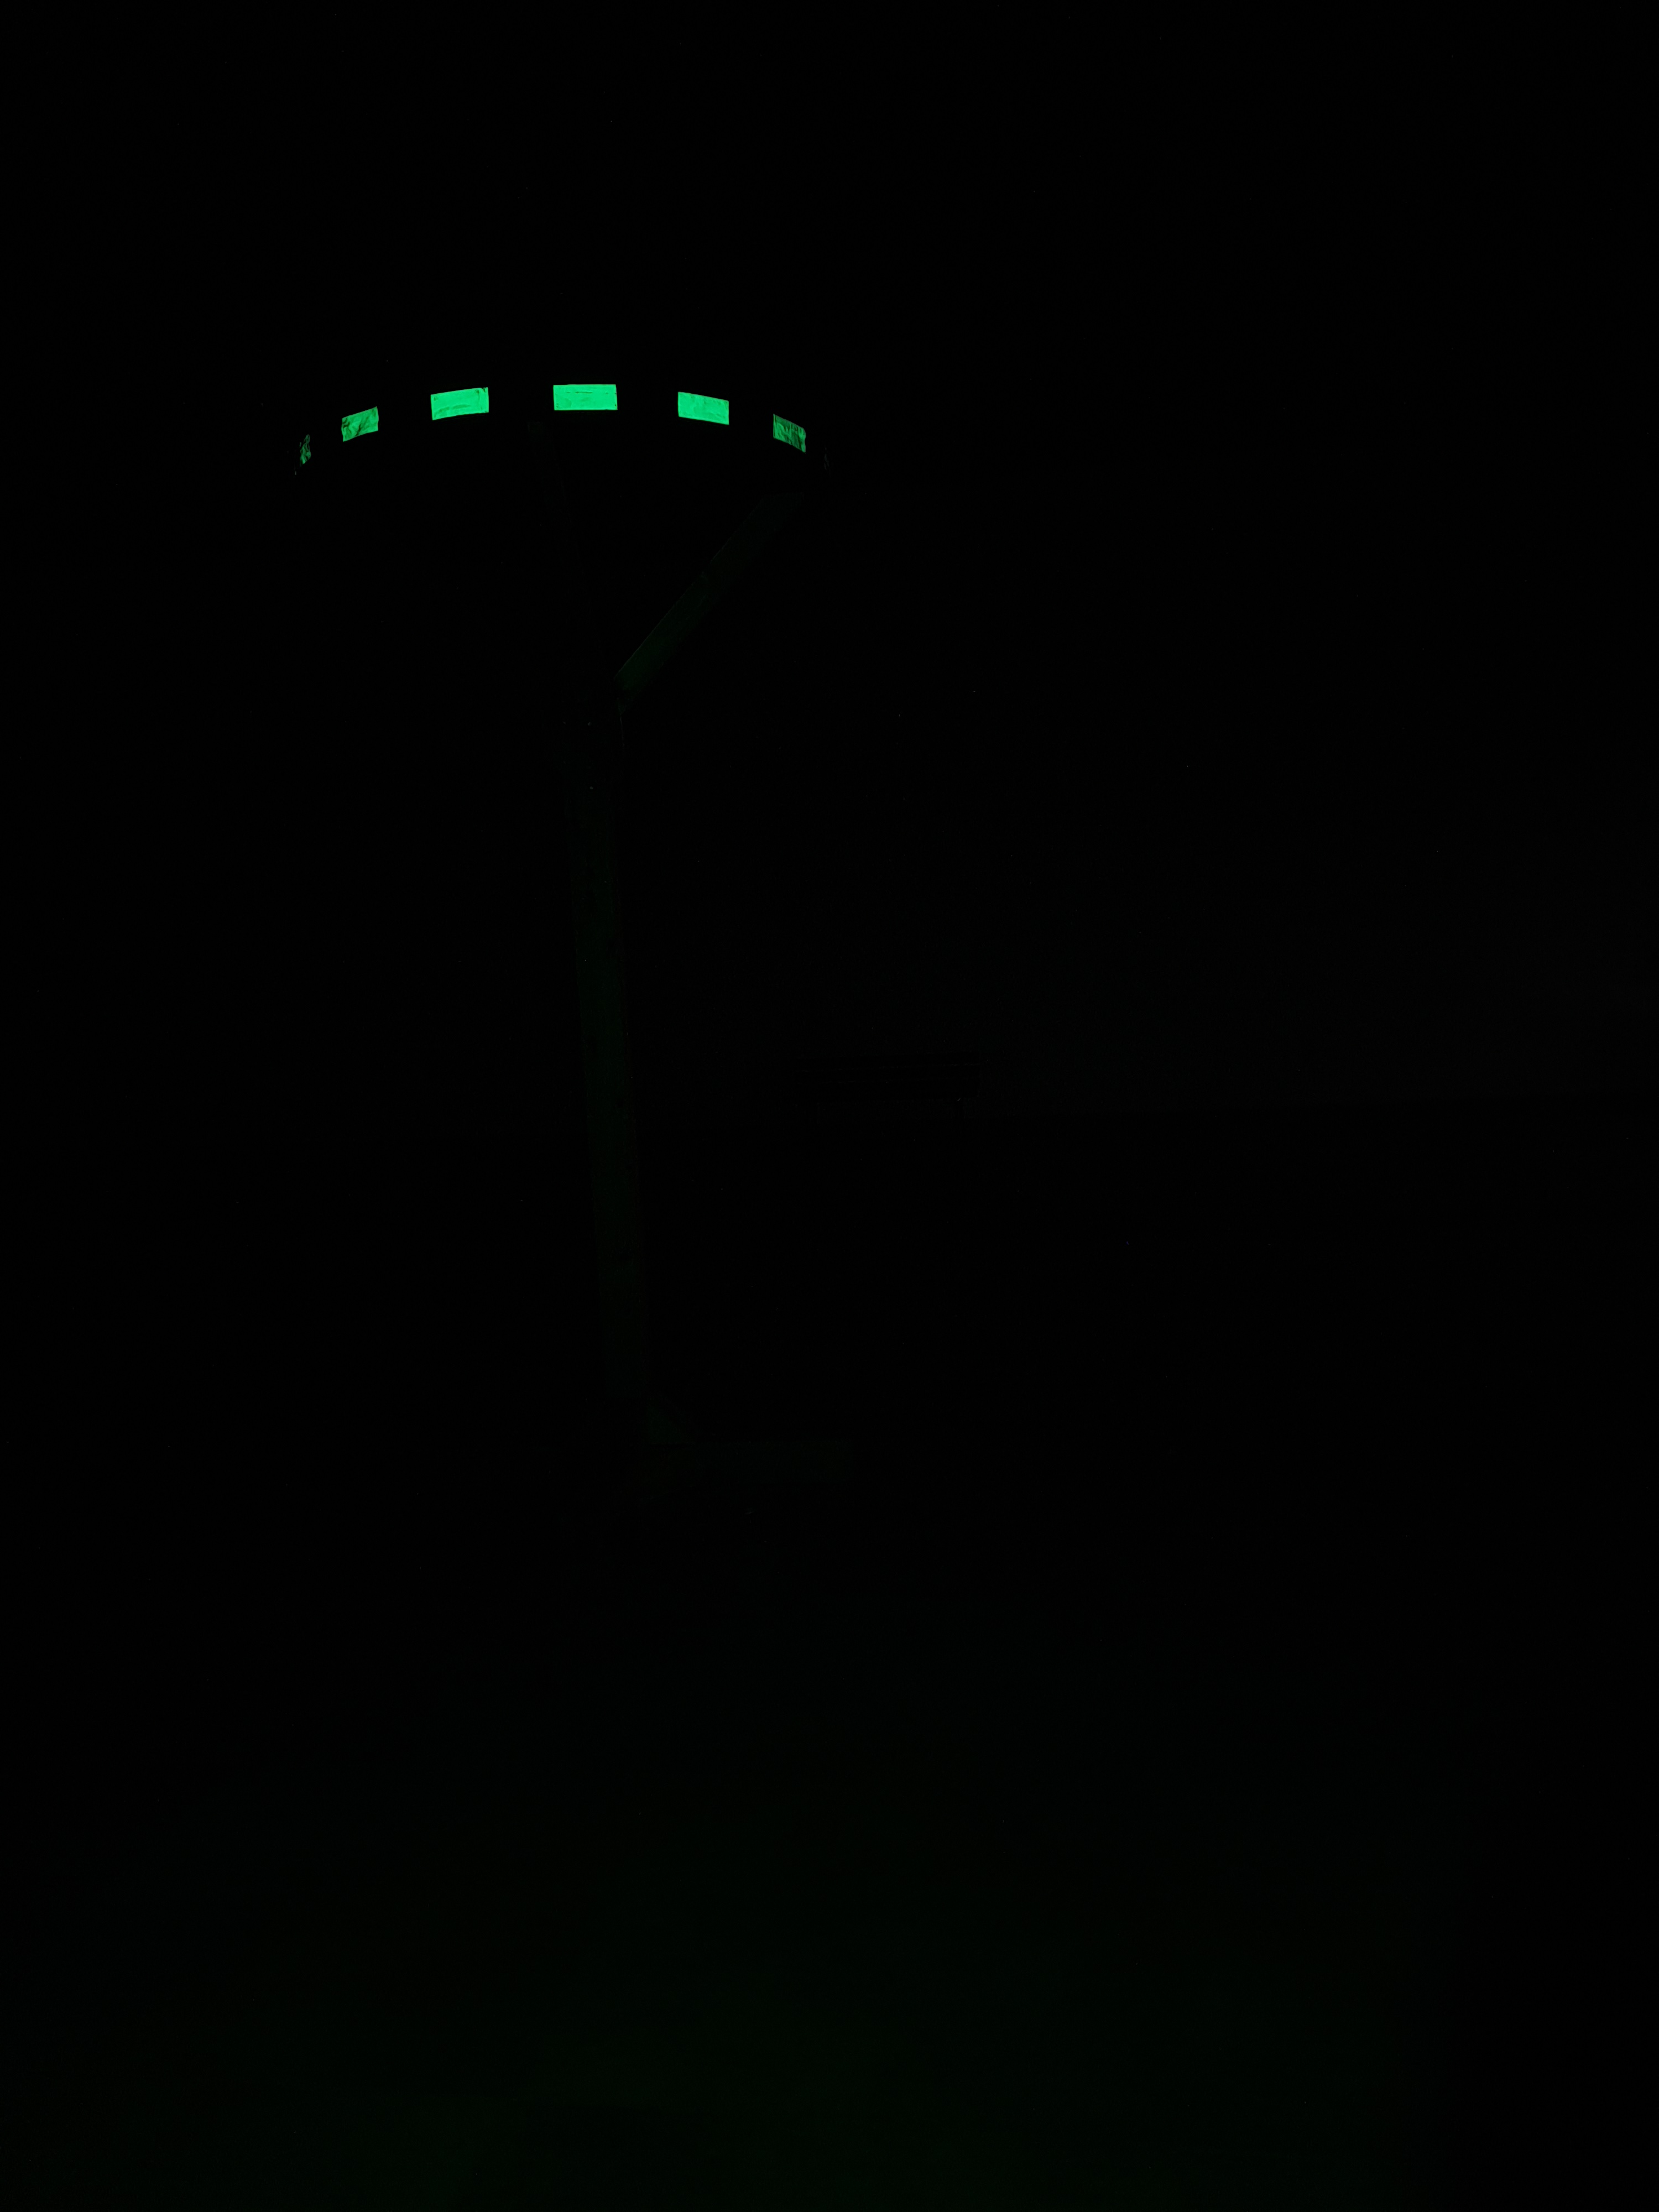hoop: (291, 376, 814, 475)
